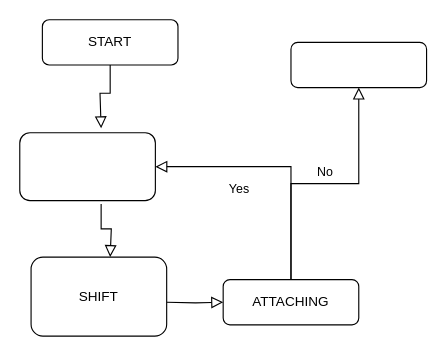
Image size: 446x356. Some labels were removed from this diagram. Here are the shapes that lost their labels. From the top down, the centre of each, then its label:
At (358,64): "GAME_OWER".
At (87,166): "SPAWN".
